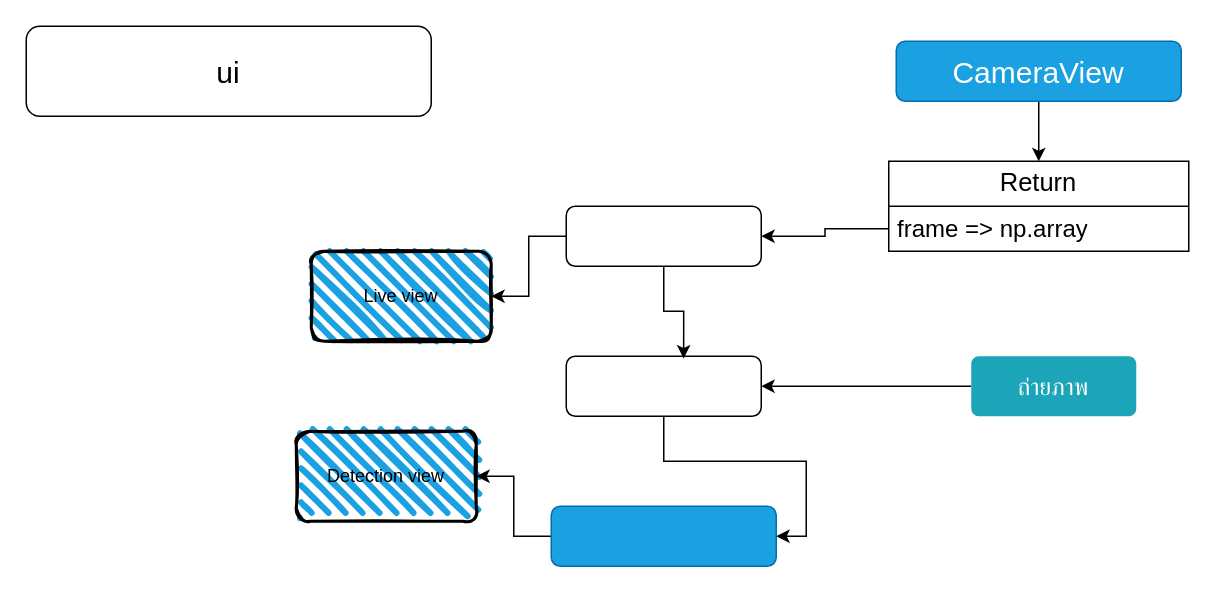
Some shapes in this 1215 by 593 pixel diagram are drawn without their labels. Each missing label, with the centre of its shape:
"Current frame" belongs at point (663, 235).
"Ocr worker" belongs at point (663, 535).
"ดึงภาพ" belongs at point (663, 385).
